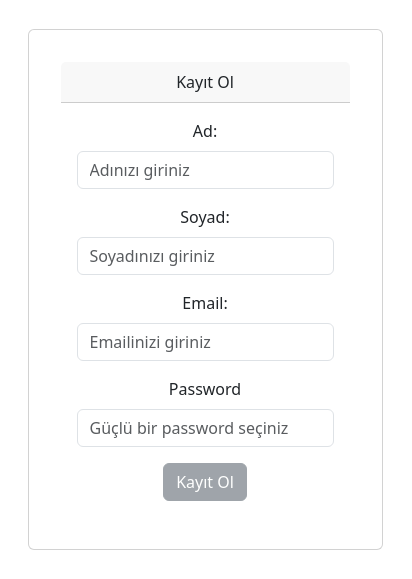
Test: Register Page › Error Messages › name input throws errors for 2 input chars
This screenshot has width=412, height=579.
In the field with test id "ad-input": (206, 170) [77,151,334,189], type "de"
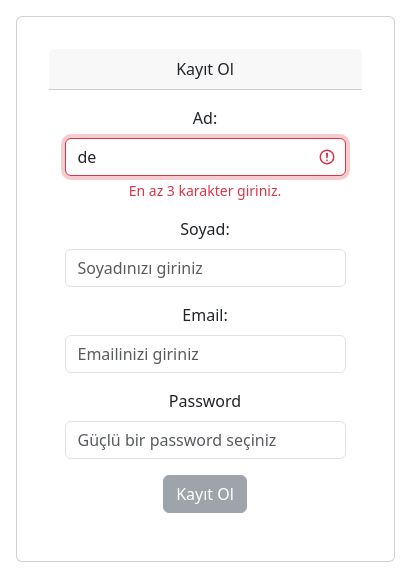
Check: the text "En az 3 karakter giriniz." is shown, box [129,181,281,200]
